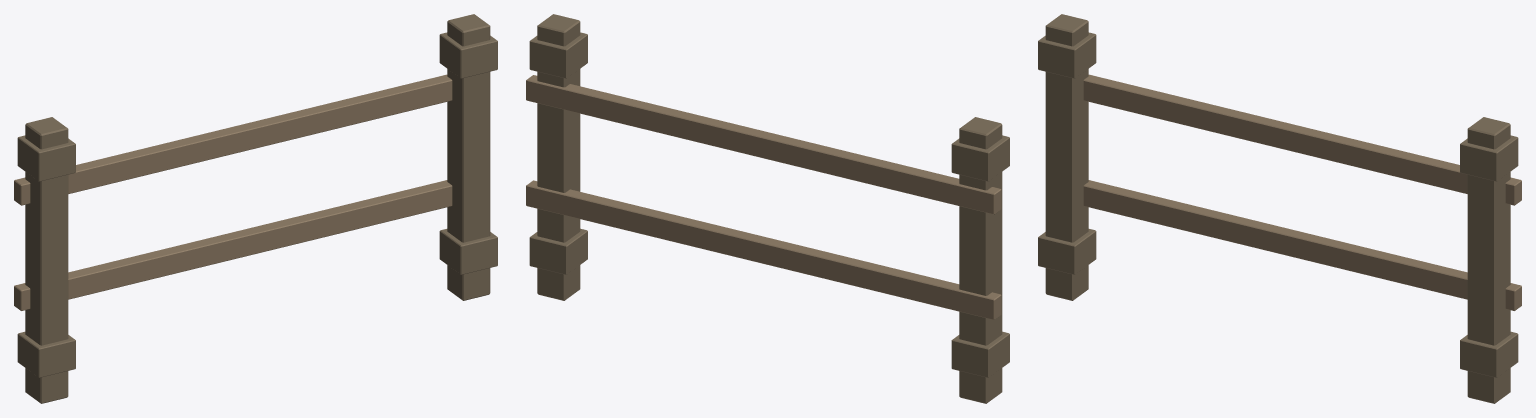
The model's file is env_fence_rail_intact_b_v05_post_collars.glb.
3 renders of one model, left to right at view 1: azimuth 30°, elevation 25°; view 2: azimuth 150°, elevation 25°; view 3: azimuth 330°, elevation 25°, orthographic.
Parts seen in each view (by area): view 1: material_2, material_0; view 2: material_0, material_2; view 3: material_2, material_0.
Boxes of the visible parts, left/top/right/bottom form: material_2: left=17, top=14, right=497, bottom=403; material_0: left=14, top=74, right=452, bottom=310; material_0: left=526, top=75, right=1001, bottom=319; material_2: left=529, top=14, right=1009, bottom=403; material_2: left=1038, top=14, right=1518, bottom=403; material_0: left=1083, top=74, right=1521, bottom=310.
Size of the model in its own units: 2 by 1.1 by 0.16.
